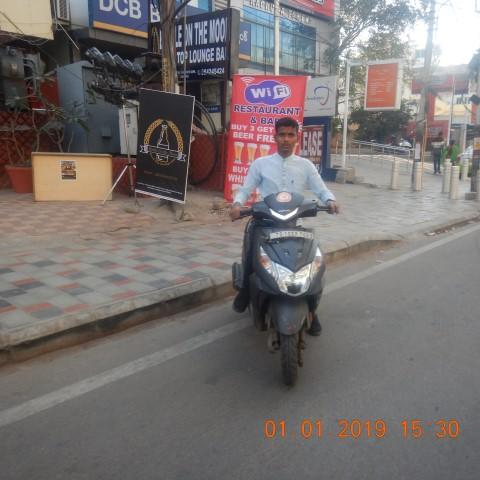plate: (271, 230, 315, 239)
